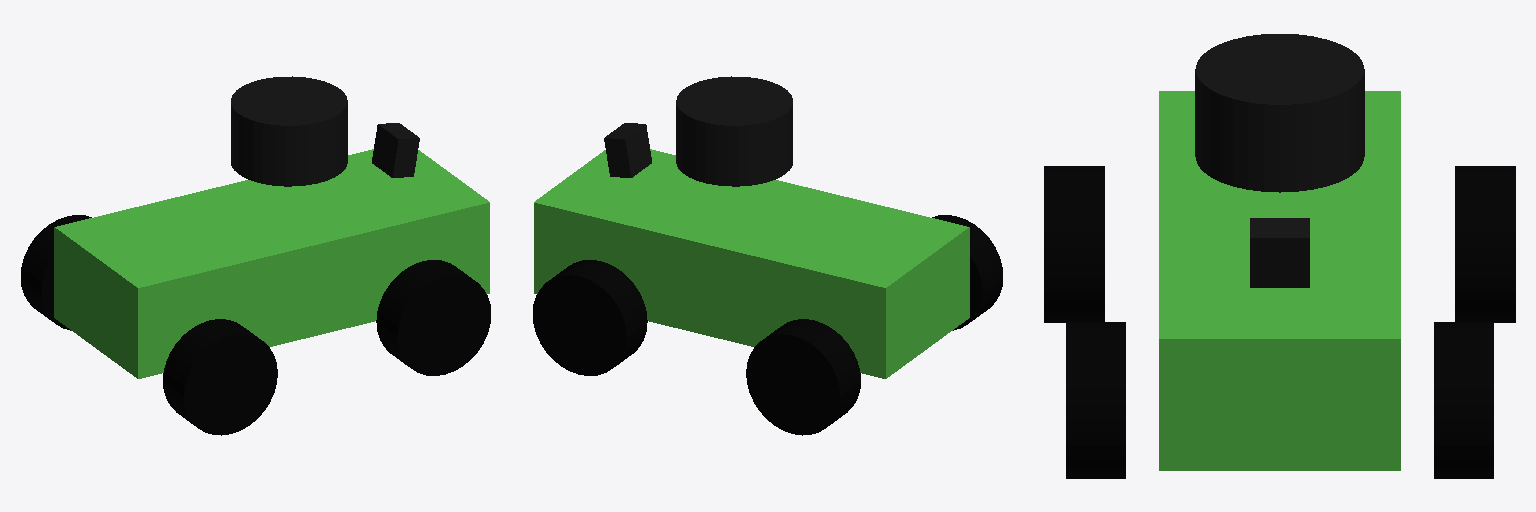
URDF robot description (jetracer):
<?xml version="1.0"?>
<!--
  Waveshare JetRacer ROS AI Kit (Jetson Nano, RP2040, RPLIDAR A1, IMX219-160).

  Measured on the car: wheelbase 6 in, front track 6 in (tread centre to
  tread centre), rear track 170 mm (tread centre to tread centre), tyres
  65 mm diameter x 25 mm wide, so 195 mm across the rear tyres.
  Waveshare drawing: 242.9 x 192.2 x 147.58 mm (to the lidar top); its
  192.2 mm width is under the measured 195 mm.
  Waveshare spec: 1.646 kg without batteries; 3 x 18650 cells add about 0.14 kg.
  Steering is parallel, not Ackermann: one servo drives both knuckles through
  a tie rod, and both front wheels turn the same angle (confirmed on the car).
  Full lock is 17 deg per wheel, from Waveshare's teb_local_planner_params.yaml
  (min_turning_radius 0.5 m with this wheelbase). The right knuckle mimics the
  left one. Drive and servo effort/velocity limits are estimates.

  Frames: x forward, y left, z up. base_link is the middle of the rear axle.
-->
<robot name="jetracer">

  <material name="chassis_green"><color rgba="0.35 0.75 0.30 1"/></material>
  <material name="tyre_black"><color rgba="0.05 0.05 0.05 1"/></material>
  <material name="sensor_black"><color rgba="0.12 0.12 0.12 1"/></material>

  <link name="base_link"/>

  <!-- Body: plate, batteries, boards and Jetson as one box between the wheels,
       25 mm ground clearance, from the rear tyre to the front bumper. -->
  <link name="chassis_link">
    <inertial>
      <origin xyz="0.070 0 0.010"/>
      <mass value="1.37"/>
      <inertia ixx="0.00265" ixy="0" ixz="0" iyy="0.00715" iyz="0" izz="0.00897"/>
    </inertial>
    <visual>
      <origin xyz="0.085 0 0.023"/>
      <geometry><box size="0.243 0.100 0.060"/></geometry>
      <material name="chassis_green"/>
    </visual>
    <collision>
      <origin xyz="0.085 0 0.023"/>
      <geometry><box size="0.243 0.100 0.060"/></geometry>
    </collision>
  </link>
  <joint name="chassis_joint" type="fixed">
    <parent link="base_link"/>
    <child link="chassis_link"/>
  </joint>

  <!-- Rear wheels, driven (two encoder gearmotors, 1:30, 333 rpm no load). -->
  <link name="rear_left_wheel_link">
    <inertial>
      <mass value="0.05"/>
      <inertia ixx="0.0000153" ixy="0" ixz="0" iyy="0.0000252" iyz="0" izz="0.0000153"/>
    </inertial>
    <visual>
      <origin rpy="1.5708 0 0"/>
      <geometry><cylinder radius="0.0325" length="0.025"/></geometry>
      <material name="tyre_black"/>
    </visual>
    <collision>
      <origin rpy="1.5708 0 0"/>
      <geometry><cylinder radius="0.0325" length="0.025"/></geometry>
    </collision>
  </link>
  <joint name="rear_left_wheel_joint" type="continuous">
    <parent link="base_link"/>
    <child link="rear_left_wheel_link"/>
    <origin xyz="0 0.085 0"/>
    <axis xyz="0 1 0"/>
    <limit effort="1.0" velocity="35.0"/>
  </joint>

  <link name="rear_right_wheel_link">
    <inertial>
      <mass value="0.05"/>
      <inertia ixx="0.0000153" ixy="0" ixz="0" iyy="0.0000252" iyz="0" izz="0.0000153"/>
    </inertial>
    <visual>
      <origin rpy="1.5708 0 0"/>
      <geometry><cylinder radius="0.0325" length="0.025"/></geometry>
      <material name="tyre_black"/>
    </visual>
    <collision>
      <origin rpy="1.5708 0 0"/>
      <geometry><cylinder radius="0.0325" length="0.025"/></geometry>
    </collision>
  </link>
  <joint name="rear_right_wheel_joint" type="continuous">
    <parent link="base_link"/>
    <child link="rear_right_wheel_link"/>
    <origin xyz="0 -0.085 0"/>
    <axis xyz="0 1 0"/>
    <limit effort="1.0" velocity="35.0"/>
  </joint>

  <!-- Front steering knuckles (MG996R servo: about 0.9 N m, 6 rad/s). -->
  <link name="front_left_steering_link">
    <inertial>
      <mass value="0.02"/>
      <inertia ixx="0.000002" ixy="0" ixz="0" iyy="0.000002" iyz="0" izz="0.000002"/>
    </inertial>
  </link>
  <joint name="front_left_steering_joint" type="revolute">
    <parent link="base_link"/>
    <child link="front_left_steering_link"/>
    <origin xyz="0.1524 0.0762 0"/>
    <axis xyz="0 0 1"/>
    <limit lower="-0.2967" upper="0.2967" effort="0.9" velocity="6.0"/>
  </joint>

  <link name="front_right_steering_link">
    <inertial>
      <mass value="0.02"/>
      <inertia ixx="0.000002" ixy="0" ixz="0" iyy="0.000002" iyz="0" izz="0.000002"/>
    </inertial>
  </link>
  <joint name="front_right_steering_joint" type="revolute">
    <parent link="base_link"/>
    <child link="front_right_steering_link"/>
    <origin xyz="0.1524 -0.0762 0"/>
    <axis xyz="0 0 1"/>
    <limit lower="-0.2967" upper="0.2967" effort="0.9" velocity="6.0"/>
    <mimic joint="front_left_steering_joint" multiplier="1" offset="0"/>
  </joint>

  <!-- Front wheels, free-rolling. -->
  <link name="front_left_wheel_link">
    <inertial>
      <mass value="0.05"/>
      <inertia ixx="0.0000153" ixy="0" ixz="0" iyy="0.0000252" iyz="0" izz="0.0000153"/>
    </inertial>
    <visual>
      <origin rpy="1.5708 0 0"/>
      <geometry><cylinder radius="0.0325" length="0.025"/></geometry>
      <material name="tyre_black"/>
    </visual>
    <collision>
      <origin rpy="1.5708 0 0"/>
      <geometry><cylinder radius="0.0325" length="0.025"/></geometry>
    </collision>
  </link>
  <joint name="front_left_wheel_joint" type="continuous">
    <parent link="front_left_steering_link"/>
    <child link="front_left_wheel_link"/>
    <axis xyz="0 1 0"/>
  </joint>

  <link name="front_right_wheel_link">
    <inertial>
      <mass value="0.05"/>
      <inertia ixx="0.0000153" ixy="0" ixz="0" iyy="0.0000252" iyz="0" izz="0.0000153"/>
    </inertial>
    <visual>
      <origin rpy="1.5708 0 0"/>
      <geometry><cylinder radius="0.0325" length="0.025"/></geometry>
      <material name="tyre_black"/>
    </visual>
    <collision>
      <origin rpy="1.5708 0 0"/>
      <geometry><cylinder radius="0.0325" length="0.025"/></geometry>
    </collision>
  </link>
  <joint name="front_right_wheel_joint" type="continuous">
    <parent link="front_right_steering_link"/>
    <child link="front_right_wheel_link"/>
    <axis xyz="0 1 0"/>
  </joint>

  <!-- RPLIDAR A1: laser_link is the scan plane, 0.1376 m above the ground
       (scan window 45 mm above the A1's leg bottoms).
       The A1 (55 mm leg bottom to head top, Slamtec drawing) stands on the
       acrylic platform over the Jetson fan; its top is the 147.6 mm on
       Waveshare's drawing. The A1 is mounted motor-to-the-
       rear and its yaw is 0: scan angle 0 is the nose. Waveshare's stock lidar.launch yaw of 3.14 swaps front and rear
       (docs/hardware/jetson.md). -->
  <link name="laser_link">
    <inertial>
      <mass value="0.17"/>
      <inertia ixx="0.000075" ixy="0" ixz="0" iyy="0.000075" iyz="0" izz="0.000104"/>
    </inertial>
    <visual>
      <geometry><cylinder radius="0.035" length="0.040"/></geometry>
      <material name="sensor_black"/>
    </visual>
    <collision>
      <geometry><cylinder radius="0.035" length="0.040"/></geometry>
    </collision>
  </link>
  <joint name="laser_joint" type="fixed">
    <parent link="base_link"/>
    <child link="laser_link"/>
    <origin xyz="0.0966 0 0.1051"/>
  </joint>

  <!-- IMX219-160 CSI camera hinged at the top of the flat, vertical 70 mm
       stand ahead of the front axle. The stand's base plate is 25 mm above
       the bottom of the chassis plate (whose top is 20 mm off the ground), so
       the stand top is about 115 mm up and the lens centre about 0.108 m. It
       looks 9.8 deg down. -->
  <link name="camera_link">
    <inertial>
      <mass value="0.02"/>
      <inertia ixx="0.000002" ixy="0" ixz="0" iyy="0.000002" iyz="0" izz="0.000002"/>
    </inertial>
    <visual>
      <geometry><box size="0.015 0.025 0.025"/></geometry>
      <material name="sensor_black"/>
    </visual>
  </link>
  <joint name="camera_joint" type="fixed">
    <parent link="base_link"/>
    <child link="camera_link"/>
    <origin xyz="0.1701 0 0.0755" rpy="0 0.171 0"/>
  </joint>

  <!-- ROS optical frame: z forward, x right, y down. -->
  <link name="camera_optical_link"/>
  <joint name="camera_optical_joint" type="fixed">
    <parent link="camera_link"/>
    <child link="camera_optical_link"/>
    <origin rpy="-1.5708 0 -1.5708"/>
  </joint>

  <!-- ICM20948 / MPU9250 on the expansion board. -->
  <link name="imu_link"/>
  <joint name="imu_joint" type="fixed">
    <parent link="base_link"/>
    <child link="imu_link"/>
    <origin xyz="0.060 0 0.020"/>
  </joint>
</robot>

--- Render facts (derived) ---
3 views of the same robot in one strip: view 1: azimuth 30°, elevation 25°; view 2: azimuth 150°, elevation 25°; view 3: azimuth 270°, elevation 25° (orthographic).
Model jetracer with 12 links and 11 joints (2 revolute, 4 continuous, 5 fixed), rooted at base_link, posed all joints at 0.
Visible links, largest first — view 1: chassis_link, laser_link, rear_right_wheel_link, front_right_wheel_link, rear_left_wheel_link, camera_link; view 2: chassis_link, laser_link, rear_left_wheel_link, front_left_wheel_link, rear_right_wheel_link, camera_link; view 3: chassis_link, laser_link, rear_left_wheel_link, rear_right_wheel_link, front_left_wheel_link, front_right_wheel_link, camera_link.
Link boxes in pixels (<box>): chassis_link: <box>54,149,489,378</box>; laser_link: <box>231,76,347,186</box>; rear_right_wheel_link: <box>163,319,277,435</box>; front_right_wheel_link: <box>376,260,490,375</box>; rear_left_wheel_link: <box>21,215,91,330</box>; camera_link: <box>372,123,419,177</box>; chassis_link: <box>534,149,969,378</box>; laser_link: <box>676,76,792,186</box>; rear_left_wheel_link: <box>746,319,860,435</box>; front_left_wheel_link: <box>533,260,647,375</box>; rear_right_wheel_link: <box>932,215,1002,330</box>; camera_link: <box>604,123,651,177</box>; chassis_link: <box>1159,91,1400,470</box>; laser_link: <box>1195,34,1364,192</box>; rear_left_wheel_link: <box>1455,166,1515,322</box>; rear_right_wheel_link: <box>1044,166,1104,322</box>; front_left_wheel_link: <box>1434,322,1493,478</box>; front_right_wheel_link: <box>1066,322,1125,478</box>; camera_link: <box>1250,218,1309,287</box>.
Size in the robot's own frame: 0.243 by 0.195 by 0.1576 metres.
Geometry: primitives only (box / cylinder / sphere), no mesh files.
